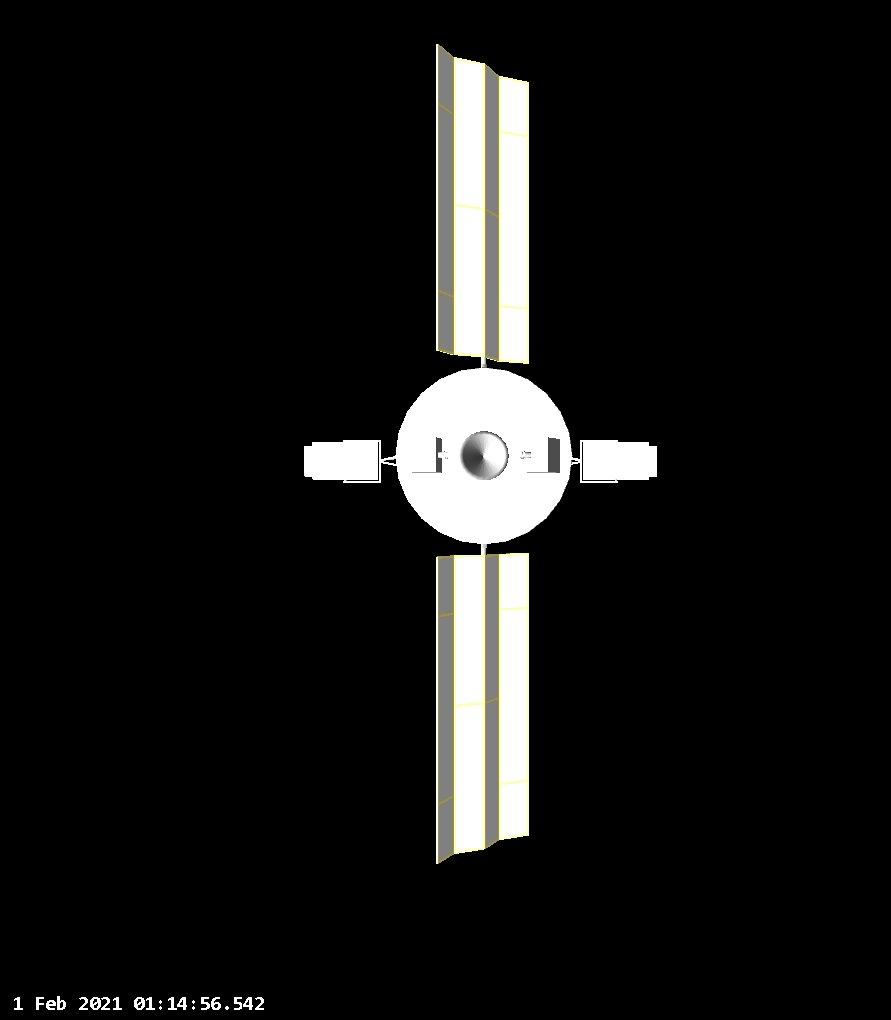antenna: (300, 435, 385, 488), (576, 435, 662, 485)
body: (393, 367, 569, 545)
solar: (432, 42, 534, 368), (431, 549, 533, 870)
thruster: (519, 450, 532, 461), (437, 451, 449, 460)
